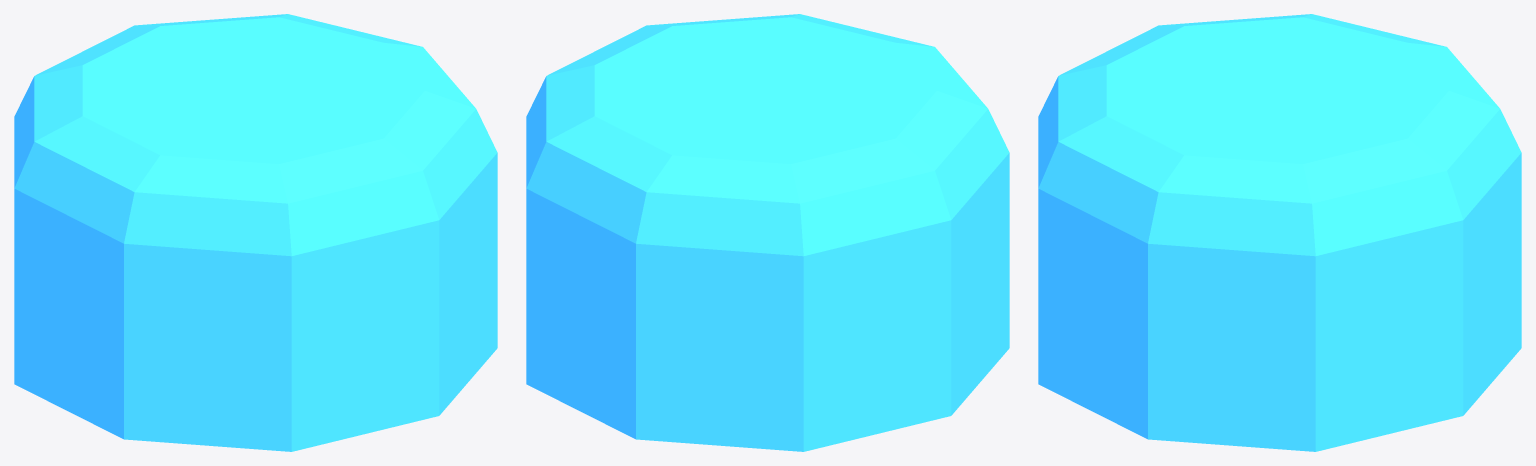
Rendered from BotonAzul.fbx.
3 views of the same model, side by side, from view 1: azimuth 30°, elevation 25°; view 2: azimuth 150°, elevation 25°; view 3: azimuth 270°, elevation 25° (orthographic).
Visible parts, largest first — view 1: BotonAzul; view 2: BotonAzul; view 3: BotonAzul.
Part boxes in pixels (bbox=[...]): BotonAzul: bbox=[14, 14, 497, 451]; BotonAzul: bbox=[526, 14, 1009, 451]; BotonAzul: bbox=[1038, 14, 1521, 451].
Bounding box in the file's own units: 69.05 × 40 × 68.
